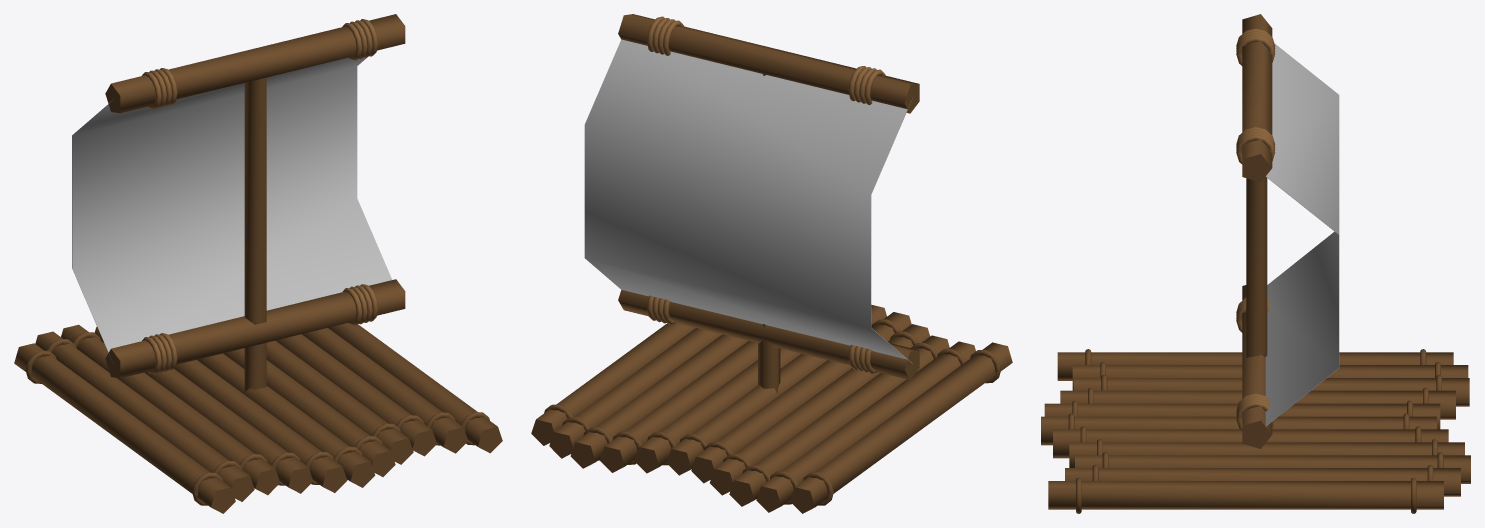
File: Raft(1).glb
3 renders of one model, left to right at view 1: azimuth 30°, elevation 25°; view 2: azimuth 150°, elevation 25°; view 3: azimuth 270°, elevation 25°, orthographic.
Visible parts, largest first — view 1: Root; view 2: Root; view 3: Root.
Boxes of the visible parts, x1=… form: Root: x1=14, y1=14, x2=502, y2=513; Root: x1=531, y1=14, x2=1012, y2=513; Root: x1=1041, y1=14, x2=1470, y2=513.
Size of the model in its own units: 4.08 by 4.85 by 5.14.
